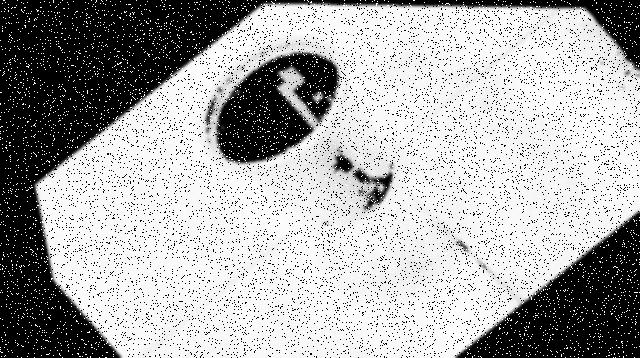pot: (198, 35, 393, 225)
